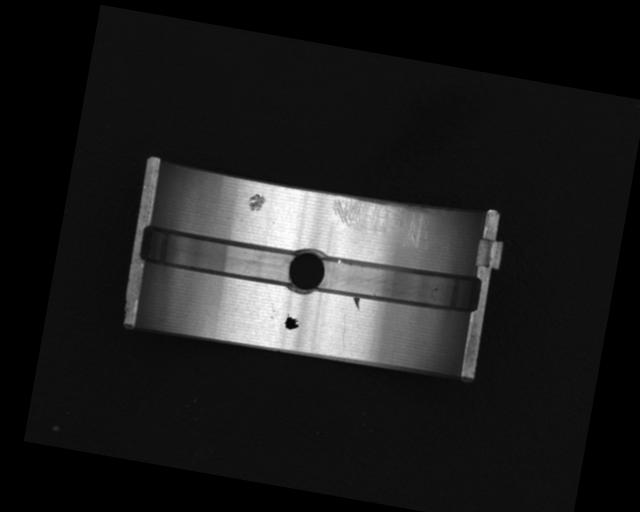blot: (283, 313, 301, 332)
bruise: (245, 191, 268, 215), (349, 295, 361, 310)
gap: (315, 248, 480, 318), (135, 222, 300, 290)
hole: (284, 244, 330, 297)
nick: (338, 313, 351, 349)
scratch: (327, 192, 435, 246)
